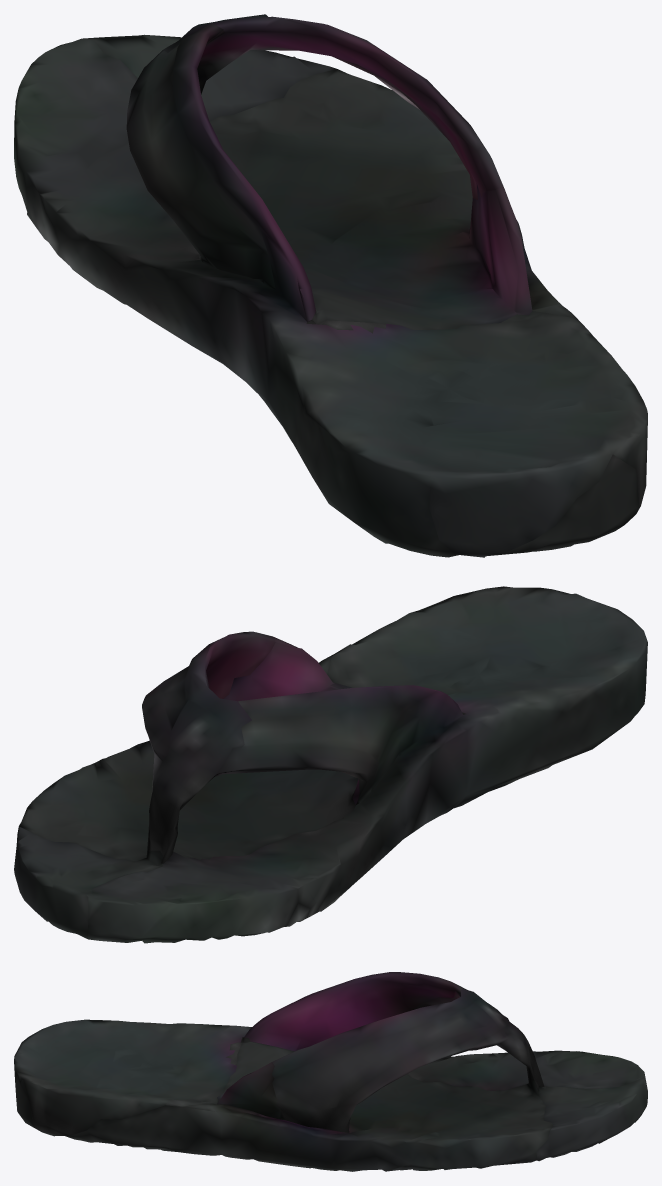
Rendered from REEF_ZENFUN-medium.glb.
3 views of the same model, one above another, from view 1: azimuth 30°, elevation 25°; view 2: azimuth 150°, elevation 25°; view 3: azimuth 270°, elevation 25° (orthographic). The views are drawn at different scales.
Parts seen in each view (by area): view 1: REEF_ZENFUN; view 2: REEF_ZENFUN; view 3: REEF_ZENFUN.
Boxes of the visible parts, bbox=[...] form: REEF_ZENFUN: bbox=[14, 14, 647, 557]; REEF_ZENFUN: bbox=[14, 586, 647, 943]; REEF_ZENFUN: bbox=[14, 972, 647, 1171].
Bounding box in the file's own units: 0.1071 × 0.06 × 0.2495.
1 material, 1 textured.
